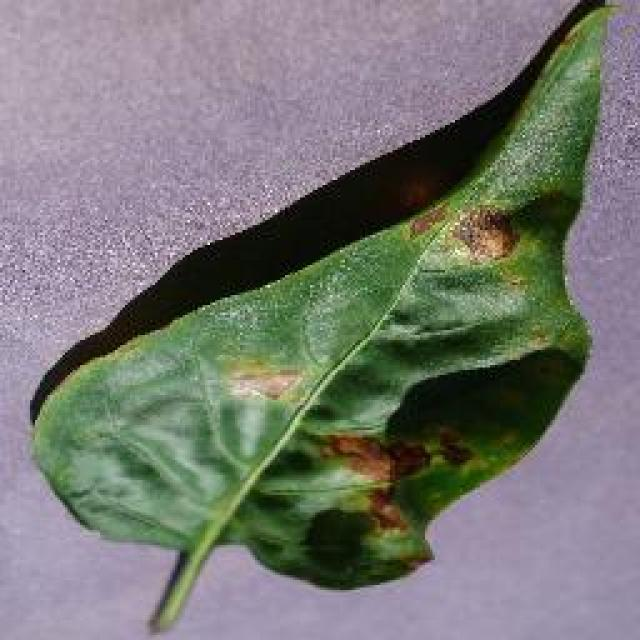Chilli_Bacterial_Spot: (25, 0, 617, 610), (215, 350, 475, 588), (315, 420, 475, 535), (298, 502, 378, 572), (318, 430, 398, 488), (220, 353, 308, 405), (450, 203, 520, 265), (430, 422, 478, 472)
